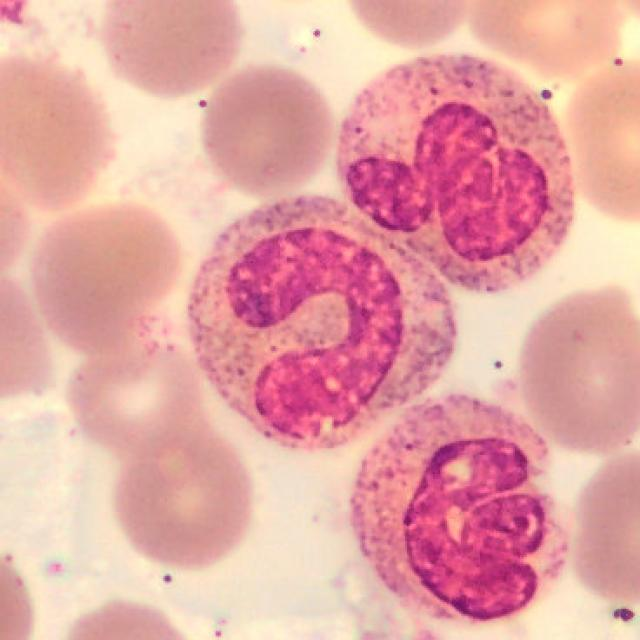Bastonete: (190, 195, 457, 451), (337, 54, 576, 292), (350, 394, 569, 623)
